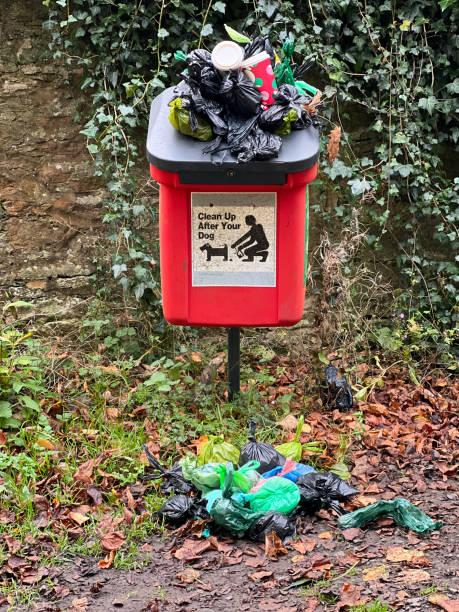trash: (144, 428, 349, 542), (184, 39, 334, 164), (332, 479, 424, 551), (317, 359, 356, 420)
trash_can_overflow: (126, 33, 443, 610)
